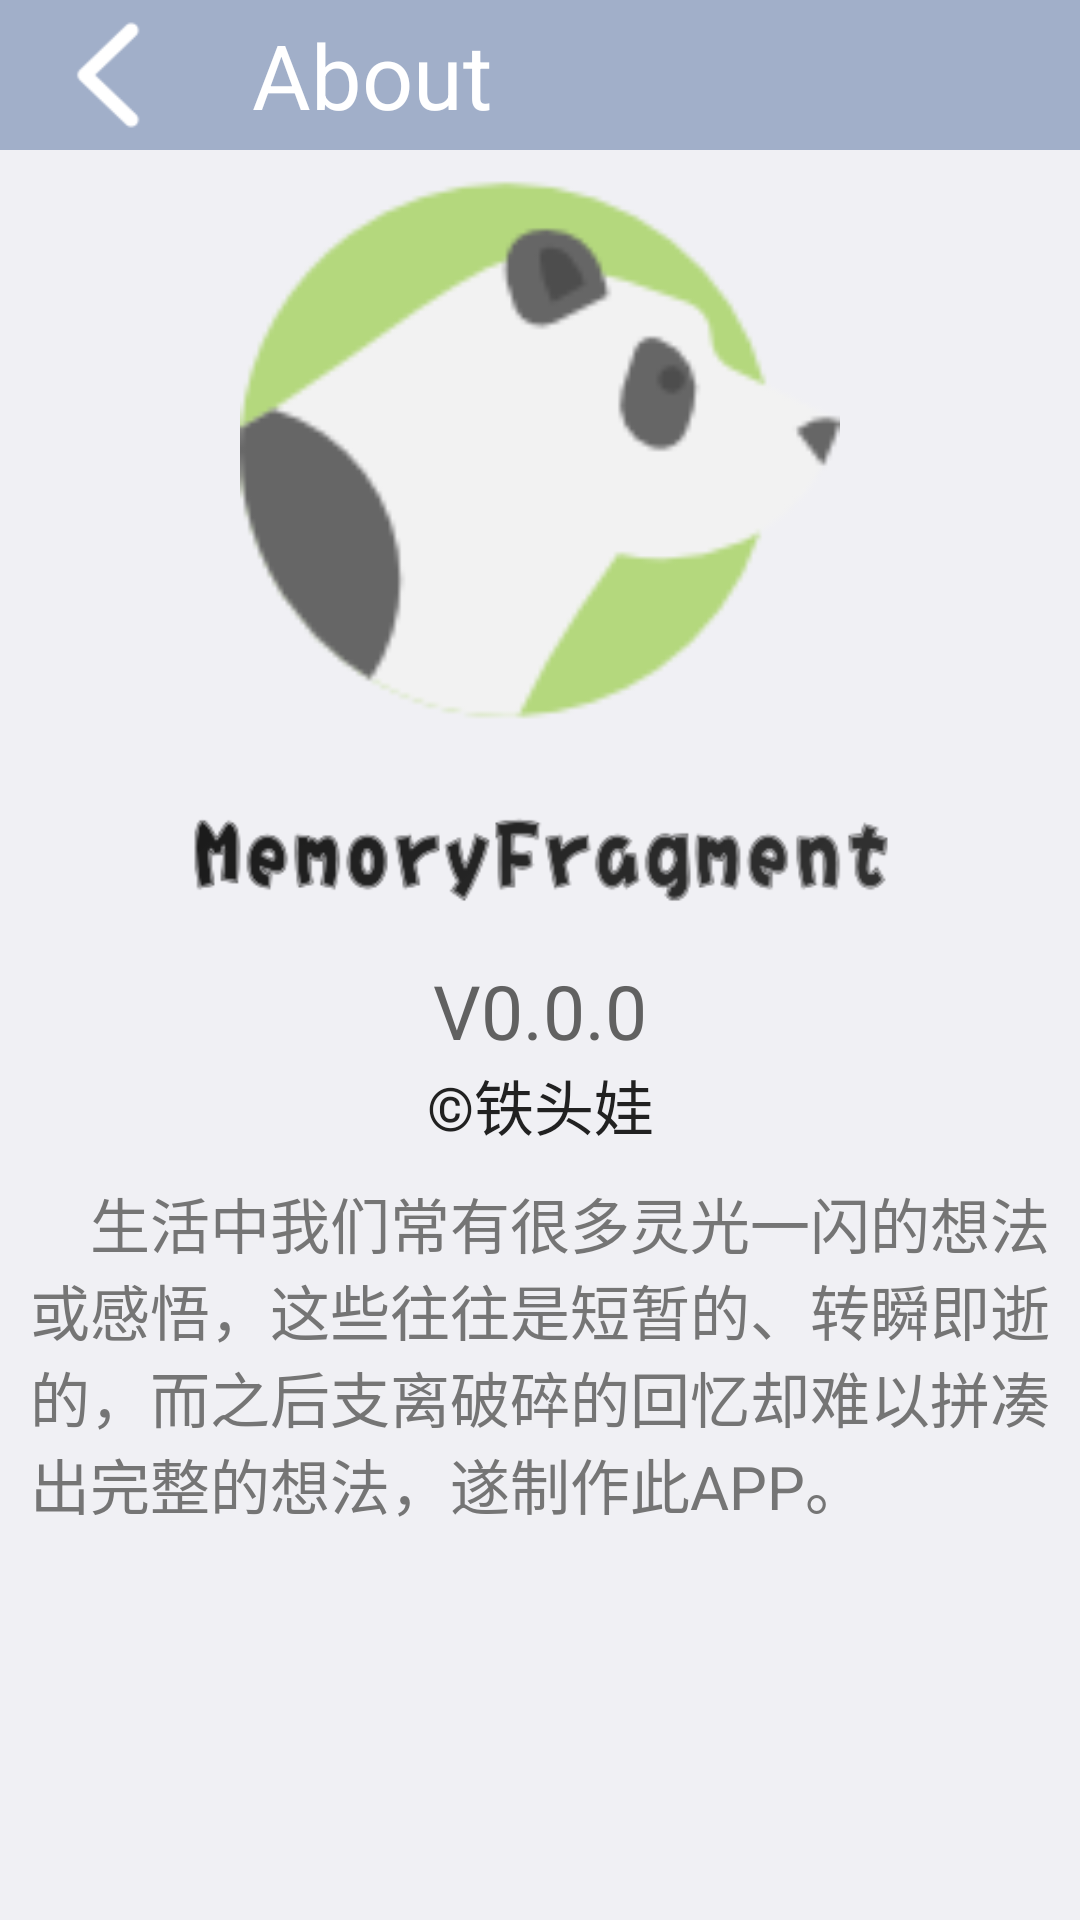

Locate icon controls on the screen. Image size 1080w x 1920h, boxes as (x1=x1, y1=y1, x2=x2, y2=y2).
back: (x1=77, y1=22, x2=139, y2=128)
